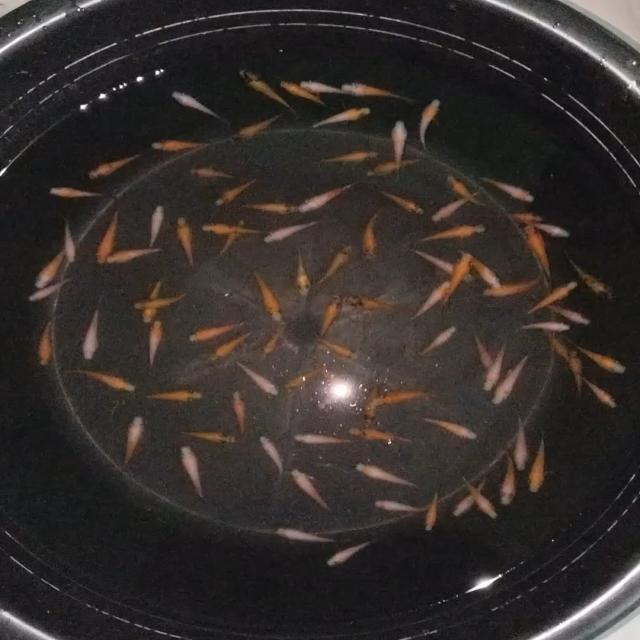nila: (237, 64, 302, 118), (490, 350, 540, 408), (480, 264, 558, 300), (566, 252, 618, 306), (568, 334, 632, 376), (226, 108, 288, 148), (417, 249, 481, 285), (520, 278, 580, 316), (294, 181, 361, 214), (461, 471, 504, 522), (522, 222, 556, 285), (458, 249, 510, 290), (248, 268, 286, 324), (169, 90, 229, 125), (323, 536, 378, 574), (291, 466, 334, 514), (30, 243, 72, 292), (304, 104, 372, 132), (278, 78, 338, 109), (178, 442, 208, 504), (481, 172, 539, 204), (410, 280, 454, 322), (533, 294, 594, 324), (85, 151, 144, 182), (203, 330, 256, 364), (347, 423, 419, 448), (430, 188, 482, 222), (356, 462, 424, 488), (444, 172, 490, 210), (414, 222, 486, 246), (258, 218, 324, 244), (318, 242, 355, 288), (452, 471, 488, 518), (446, 250, 476, 306), (236, 360, 280, 398), (580, 372, 623, 410), (68, 368, 136, 392), (340, 80, 414, 102), (483, 334, 511, 392), (526, 434, 552, 496), (372, 384, 444, 406), (24, 274, 76, 304), (94, 210, 122, 265), (186, 318, 250, 342), (416, 95, 442, 154), (412, 325, 458, 358), (312, 146, 386, 166), (341, 292, 408, 314), (359, 374, 386, 428), (288, 247, 316, 299), (314, 292, 342, 344), (281, 365, 331, 394), (363, 156, 423, 180), (424, 416, 479, 442), (274, 525, 342, 546), (378, 188, 426, 217), (122, 414, 146, 472), (173, 216, 200, 267), (209, 218, 246, 255), (390, 118, 410, 184), (214, 177, 258, 207), (317, 335, 362, 363), (83, 302, 104, 362), (562, 346, 588, 394), (123, 292, 192, 310), (362, 206, 382, 267), (258, 434, 288, 474), (144, 202, 168, 250), (499, 449, 519, 506), (371, 498, 434, 516), (192, 222, 260, 238), (292, 430, 356, 447), (106, 246, 166, 264), (512, 412, 530, 472), (142, 280, 165, 326), (541, 329, 572, 363), (36, 318, 56, 368), (529, 218, 573, 240), (230, 390, 252, 434), (299, 77, 349, 96), (516, 318, 574, 334), (147, 319, 165, 370), (472, 331, 496, 369), (423, 486, 442, 534), (233, 200, 303, 213), (141, 389, 211, 402), (185, 165, 238, 182), (148, 138, 221, 150), (260, 329, 284, 365), (48, 187, 109, 200), (176, 430, 242, 442), (62, 216, 78, 264), (491, 210, 550, 222)
